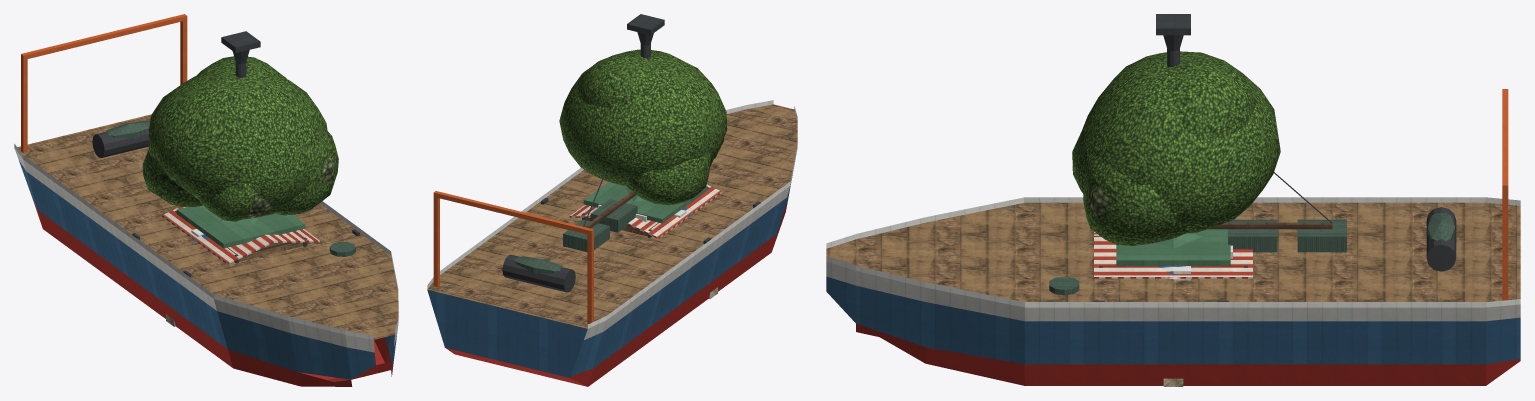
Rendered from tidewall-props.glb.
3 renders of one model, left to right at view 1: azimuth 30°, elevation 25°; view 2: azimuth 150°, elevation 25°; view 3: azimuth 270°, elevation 25°, orthographic. The views are drawn at different scales.
Parts seen in each view (by area): view 1: trawler_deck, u-tree_crown, trawler_hull, trawler_gear, kiosk_roof, trawler_trim, stall_canopy, column_iron, stall_body; view 2: trawler_deck, trawler_hull, u-tree_crown, trawler_gear, trawler_trim, mast_net, kiosk_roof, stall_canopy, column_iron, mast_rig; view 3: trawler_hull, trawler_deck, u-tree_crown, trawler_trim, trawler_gear, kiosk_roof, stall_canopy, mast_net, column_iron, mast_rig.
Boxes of the visible parts, bbox=[...] form: trawler_deck: bbox=[17, 114, 398, 339]; u-tree_crown: bbox=[142, 56, 338, 221]; trawler_hull: bbox=[14, 148, 398, 386]; trawler_gear: bbox=[21, 14, 359, 276]; kiosk_roof: bbox=[176, 205, 305, 248]; trawler_trim: bbox=[14, 144, 398, 339]; stall_canopy: bbox=[162, 206, 319, 264]; column_iron: bbox=[221, 31, 260, 77]; stall_body: bbox=[239, 242, 303, 261]; trawler_deck: bbox=[427, 104, 797, 328]; trawler_hull: bbox=[427, 161, 795, 386]; u-tree_crown: bbox=[559, 49, 727, 205]; trawler_gear: bbox=[433, 191, 760, 323]; trawler_trim: bbox=[427, 100, 797, 328]; mast_net: bbox=[563, 199, 637, 251]; kiosk_roof: bbox=[583, 182, 707, 223]; stall_canopy: bbox=[569, 184, 721, 238]; column_iron: bbox=[627, 14, 664, 58]; mast_rig: bbox=[583, 171, 636, 228]; trawler_hull: bbox=[826, 261, 1520, 385]; trawler_deck: bbox=[826, 202, 1520, 301]; u-tree_crown: bbox=[1072, 51, 1280, 245]; trawler_trim: bbox=[826, 197, 1520, 307]; trawler_gear: bbox=[1049, 89, 1508, 301]; kiosk_roof: bbox=[1116, 222, 1230, 265]; stall_canopy: bbox=[1094, 231, 1252, 278]; mast_net: bbox=[1228, 219, 1346, 252]; column_iron: bbox=[1156, 14, 1190, 67]; mast_rig: bbox=[1208, 172, 1332, 229].
Size of the model in its own units: 5 by 7.49 by 14.
Materials: 43 (43 with a texture image).
